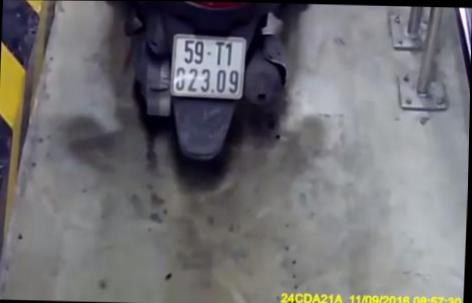LP: (169, 30, 248, 101)
